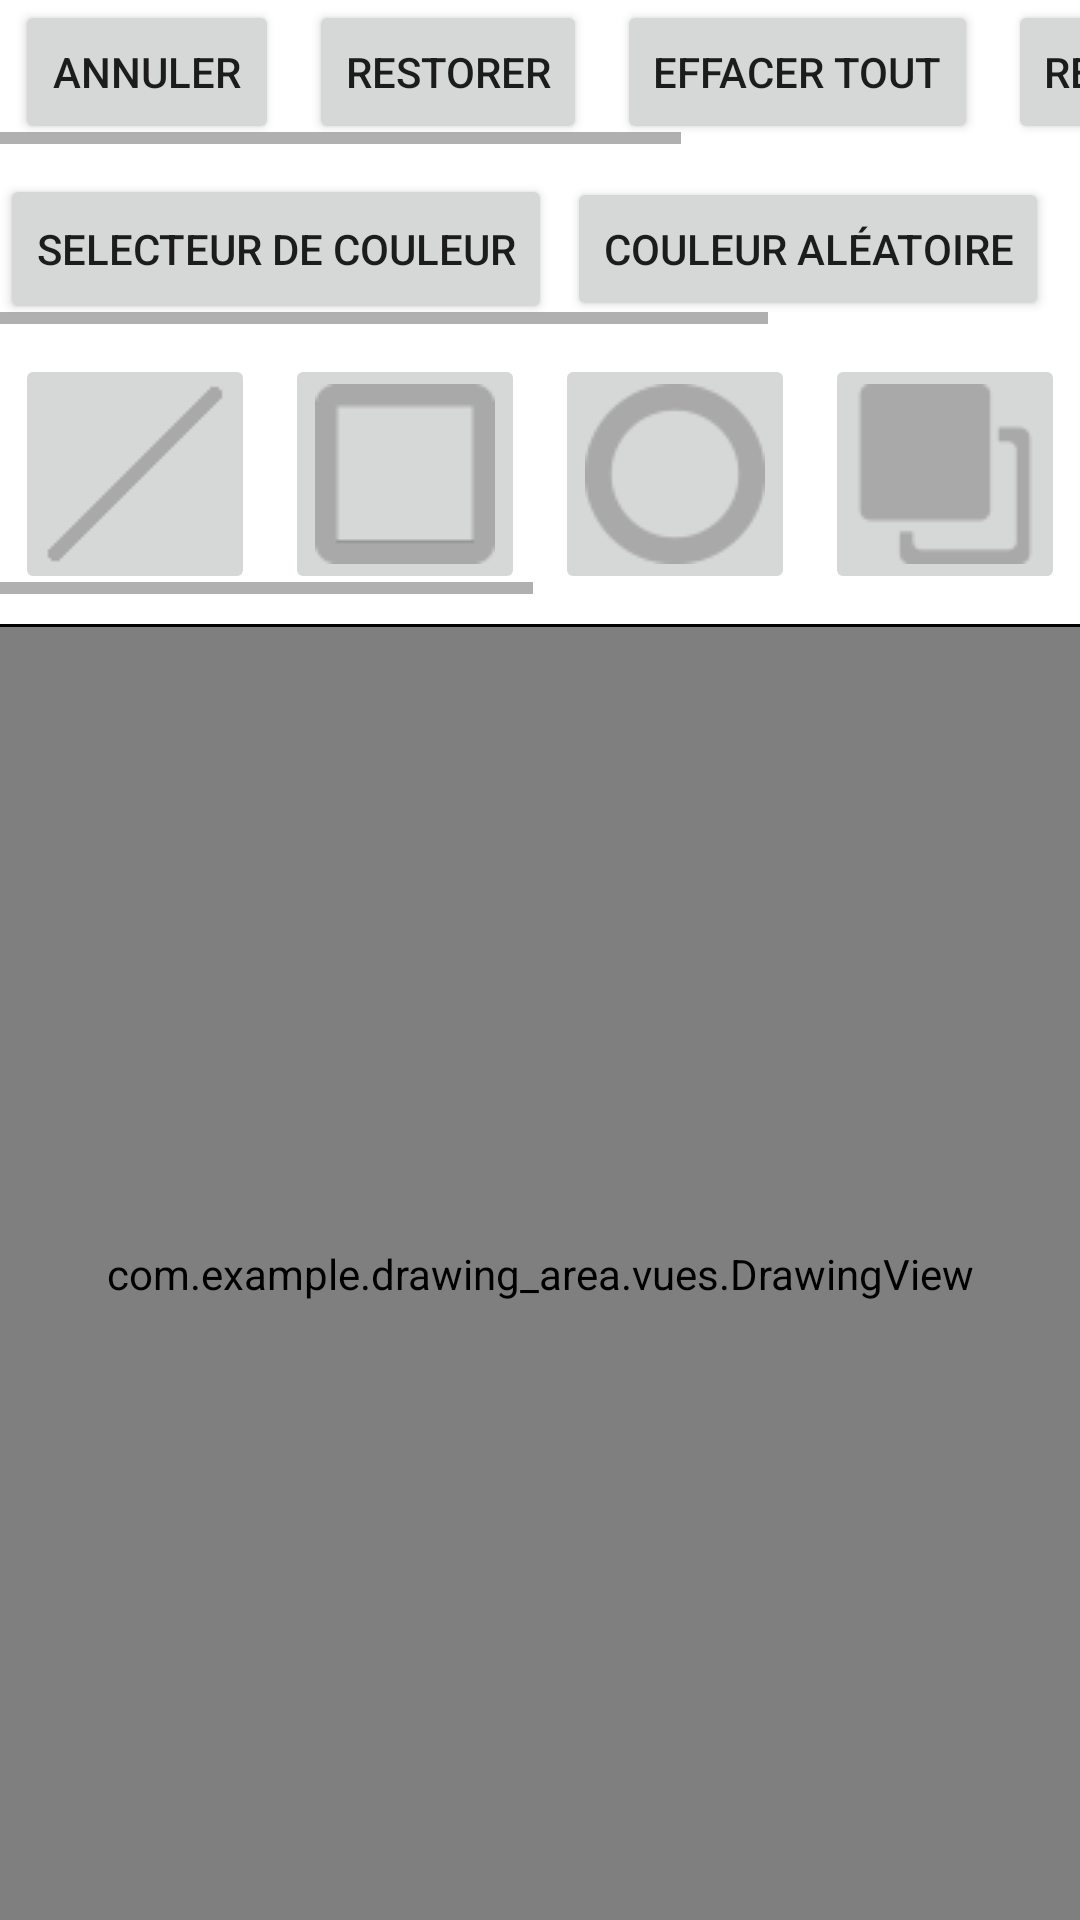

Icon bounding boxes for this 1080 x 1920 phone screenshot, format {"x1": x1, "y1": y1, "x2": x2, "y2": y2}:
carre: {"x1": 297, "y1": 372, "x2": 513, "y2": 576}
cercle: {"x1": 567, "y1": 372, "x2": 783, "y2": 576}
ligne: {"x1": 27, "y1": 372, "x2": 243, "y2": 576}
rempli: {"x1": 837, "y1": 372, "x2": 1053, "y2": 576}
